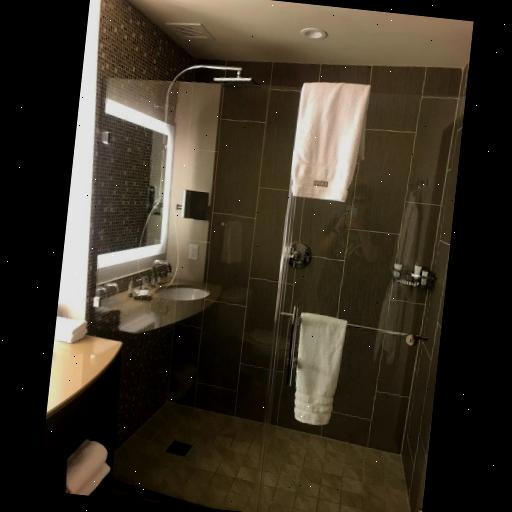clean mirror: (96, 114, 169, 273)
clean shower: (54, 0, 475, 512)
folded_towel: (278, 76, 373, 208), (284, 306, 352, 430), (46, 431, 131, 494)
